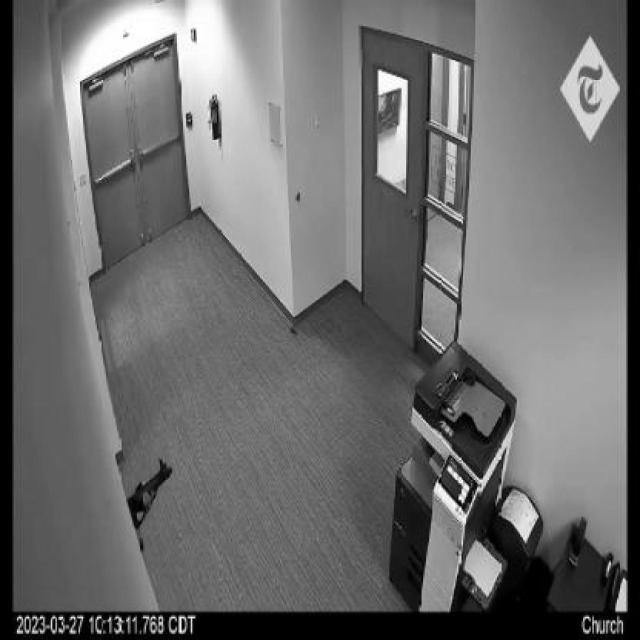weapon: (127, 457, 173, 550)
